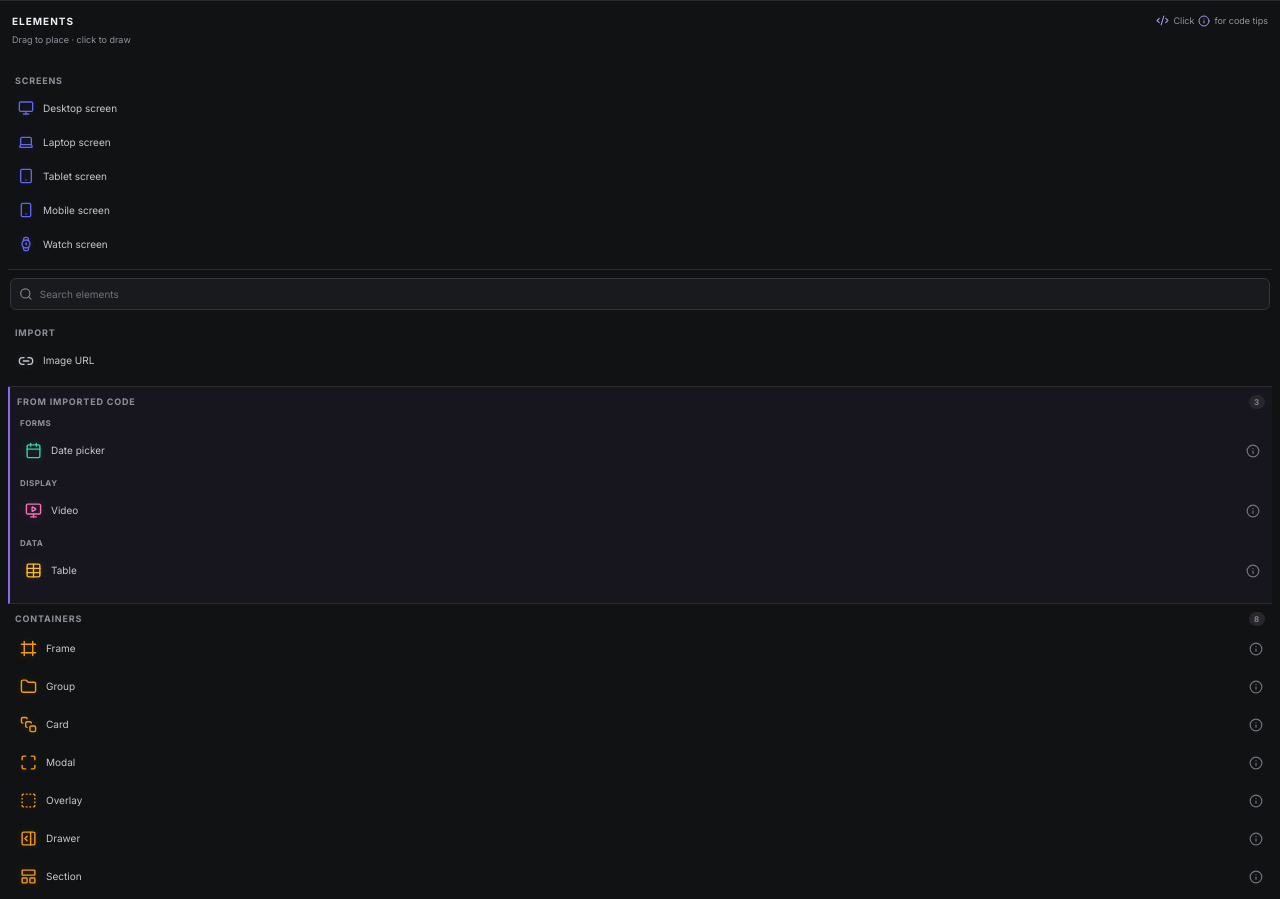
Test: ElementLibrary imported code shortcuts › places Screens above search and filters standard and imported widgets together
This screenshot has width=1280, height=899.
Type "date picker" into the search field labelled "Search elements" at x=650, y=294, box [40,286,1261,302]
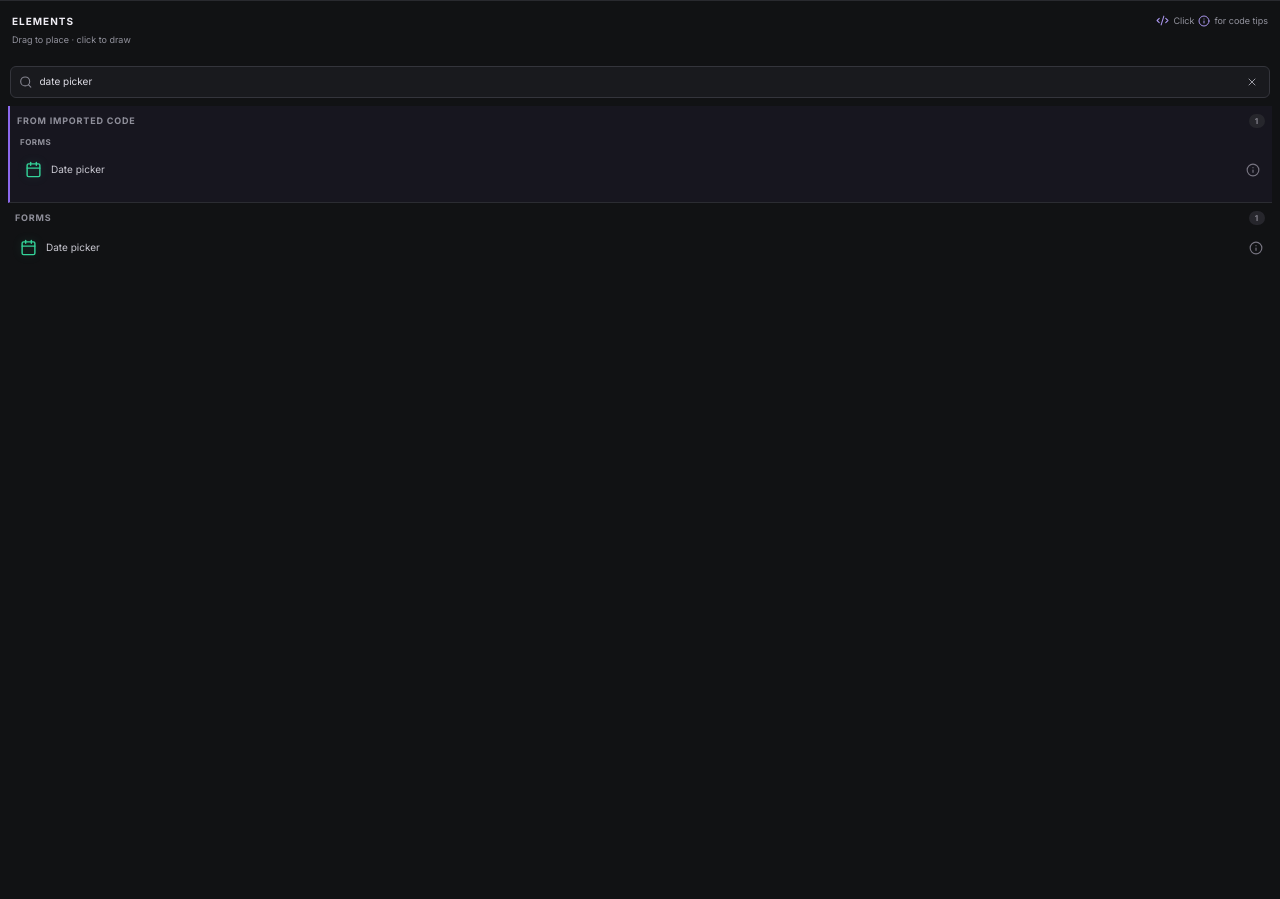
Check: the element named "Detected in imported code" is shown, box [8,106,1272,202]
Check: the number of buttons named "Add Date picker" is 2, box [17,154,1238,186]; [12,232,1241,264]
